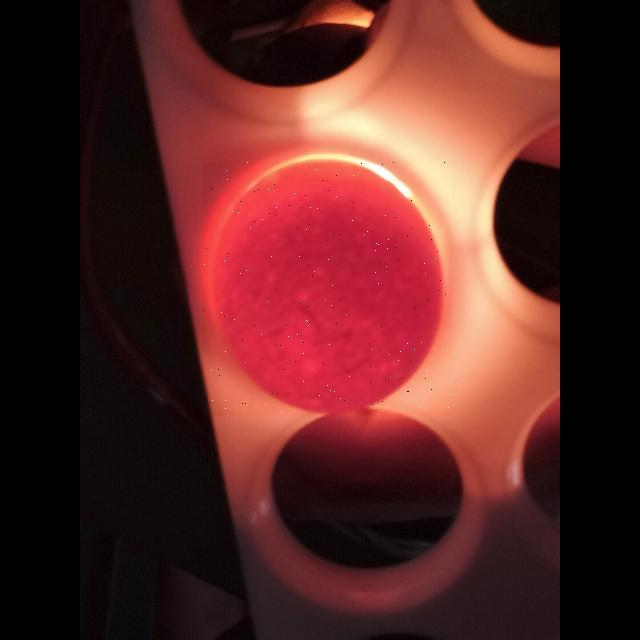Infertile: (202, 162, 452, 416)
